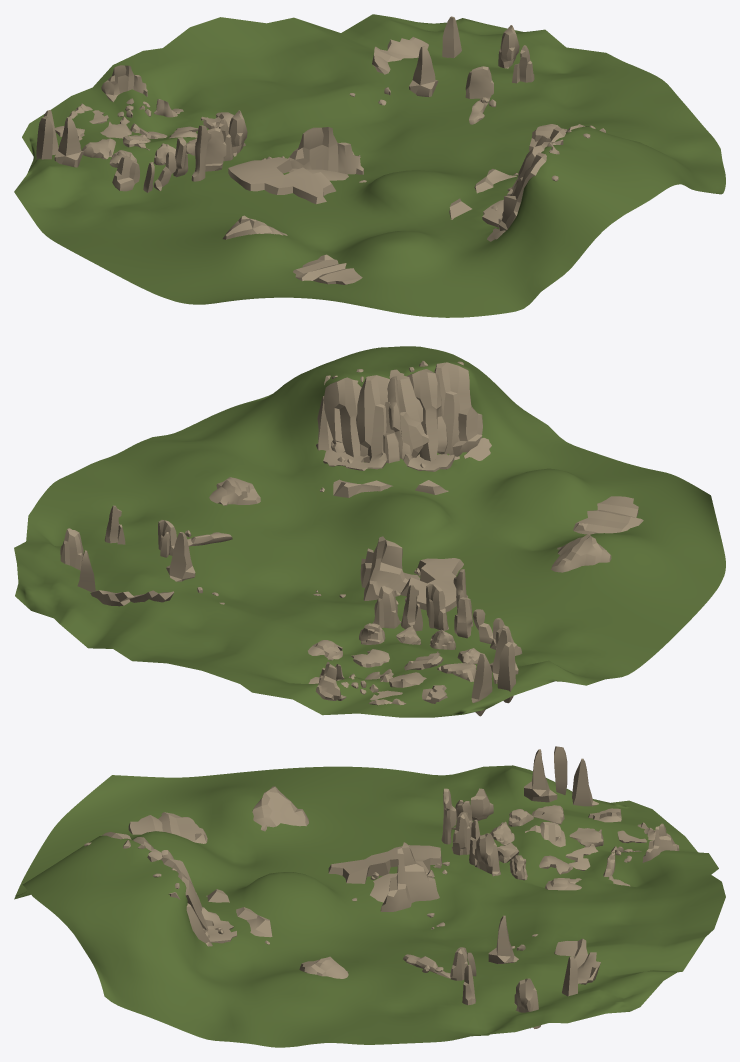
File: low_poly_rocks.glb
The picture shows the model from 3 angles, top to bottom: view 1: azimuth 30°, elevation 25°; view 2: azimuth 150°, elevation 25°; view 3: azimuth 270°, elevation 25°; orthographic projection.
Visible parts, largest first — view 1: Plane, rock.046, rock.005, rock.040, rock.061, rock.044, rock.026, rock.043, rock.004, rock.029, rock.010, rock.015 (+9 smaller); view 2: Plane, rock.040, rock.005, rock.046, rock.061, rock.047, rock.062, rock.074, rock.043, rock.008, rock.044, rock.069 (+8 smaller); view 3: Plane, rock.046, rock.005, rock.040, rock.047, rock.061, rock.044, rock.004, rock.074, rock.008, rock.018, rock.043 (+10 smaller).
Boxes of the visible parts, x1,y1,x2,y2 form: Plane: (14,14,725,317); rock.046: (228,157,348,204); rock.005: (288,127,363,174); rock.040: (498,124,605,230); rock.061: (293,254,362,284); rock.044: (372,37,428,74); rock.026: (101,65,147,101); rock.043: (409,46,438,96); rock.004: (54,117,83,167); rock.029: (465,66,493,98); rock.010: (205,128,226,171); rock.015: (112,155,139,191); Plane: (14,346,725,717); rock.040: (316,362,482,463); rock.005: (360,536,408,600); rock.046: (399,558,467,611); rock.061: (573,496,643,534); rock.047: (551,534,611,572); rock.062: (209,477,260,505); rock.074: (333,454,459,497); rock.043: (166,532,195,581); rock.008: (372,585,401,628); rock.044: (90,590,174,606); rock.069: (323,449,387,470); Plane: (14,765,725,1047); rock.046: (328,845,442,902); rock.005: (380,842,439,911); rock.040: (101,832,212,946); rock.047: (252,786,308,831); rock.061: (128,812,207,843); rock.044: (554,938,600,984); rock.004: (524,749,557,802); rock.074: (206,889,272,937); rock.008: (474,833,500,876); rock.018: (572,758,598,806); rock.043: (488,915,518,963).
Bounding box in the file's own units: 156 × 34.21 × 158.
